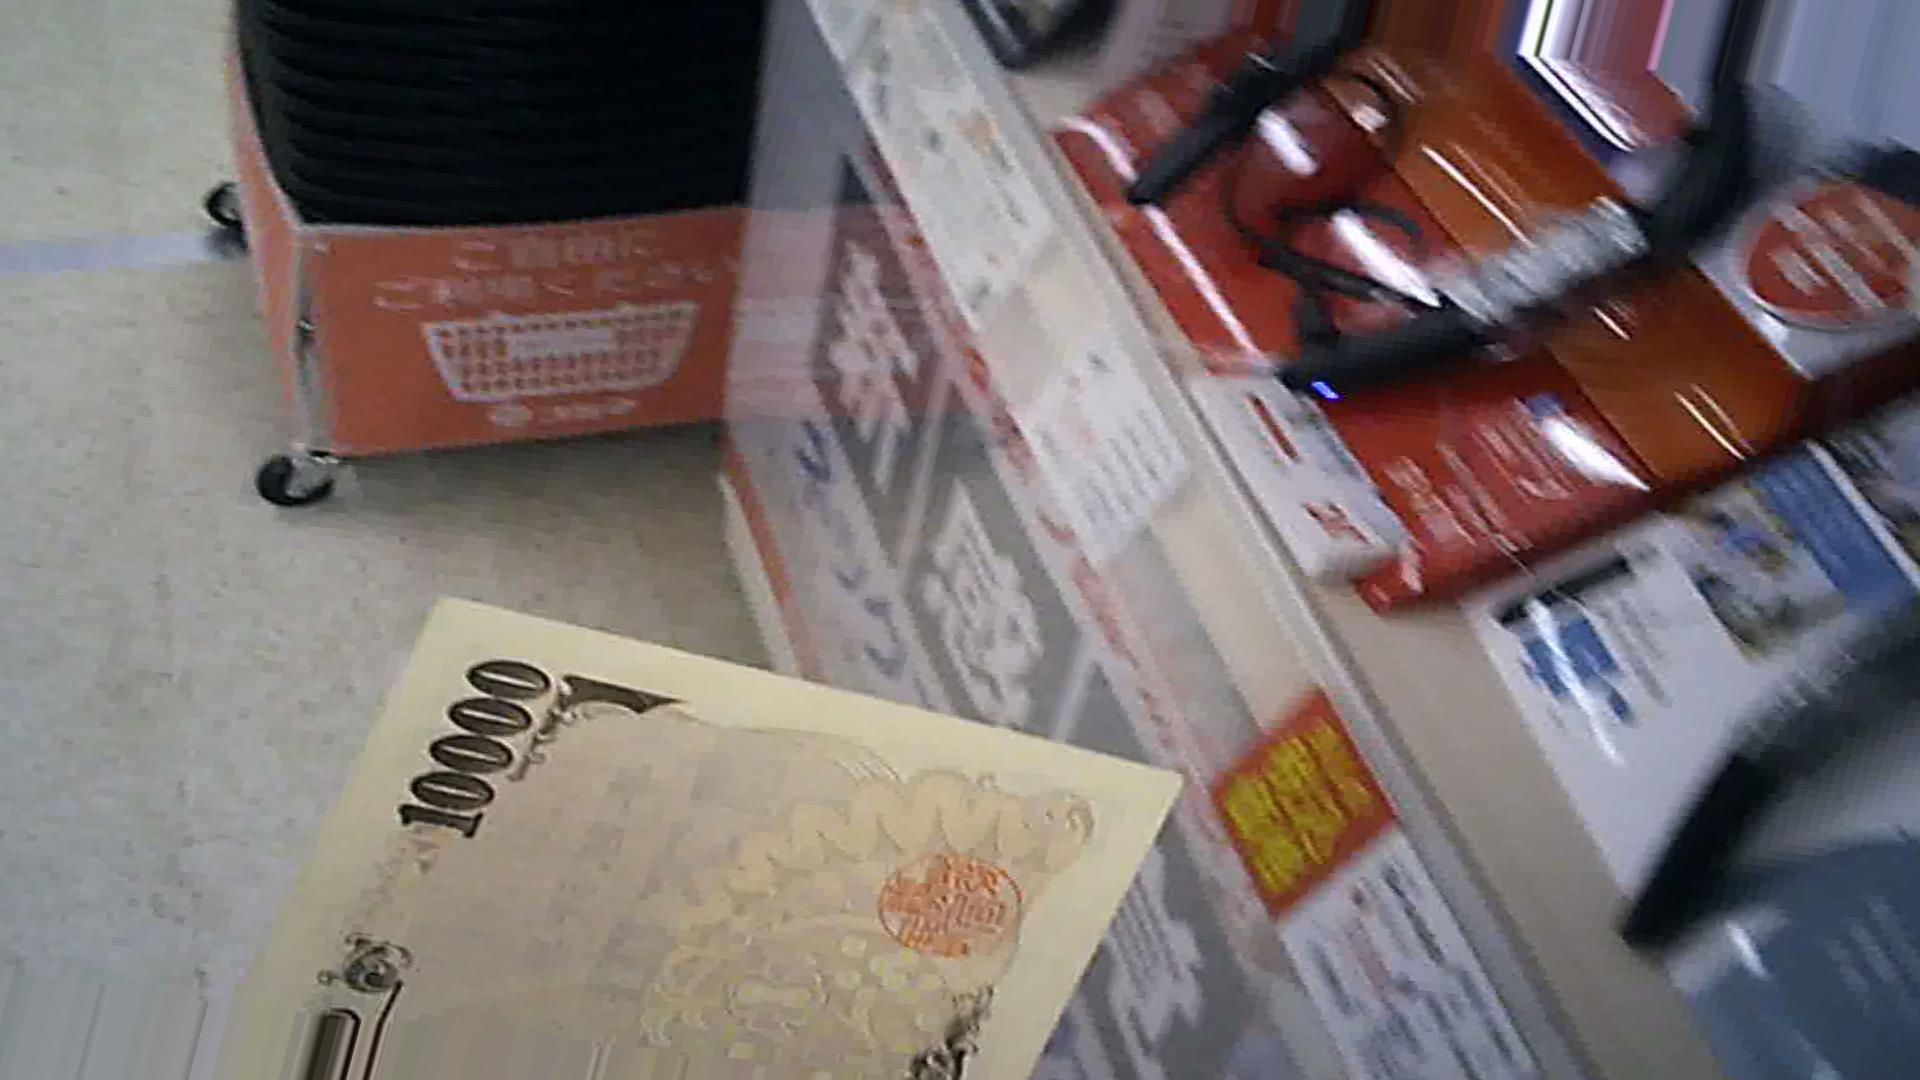10,000 Yen: (256, 609, 1131, 1079)
